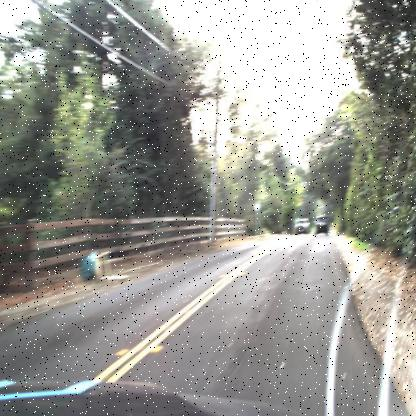car: (313, 214, 330, 237), (293, 214, 310, 235)
